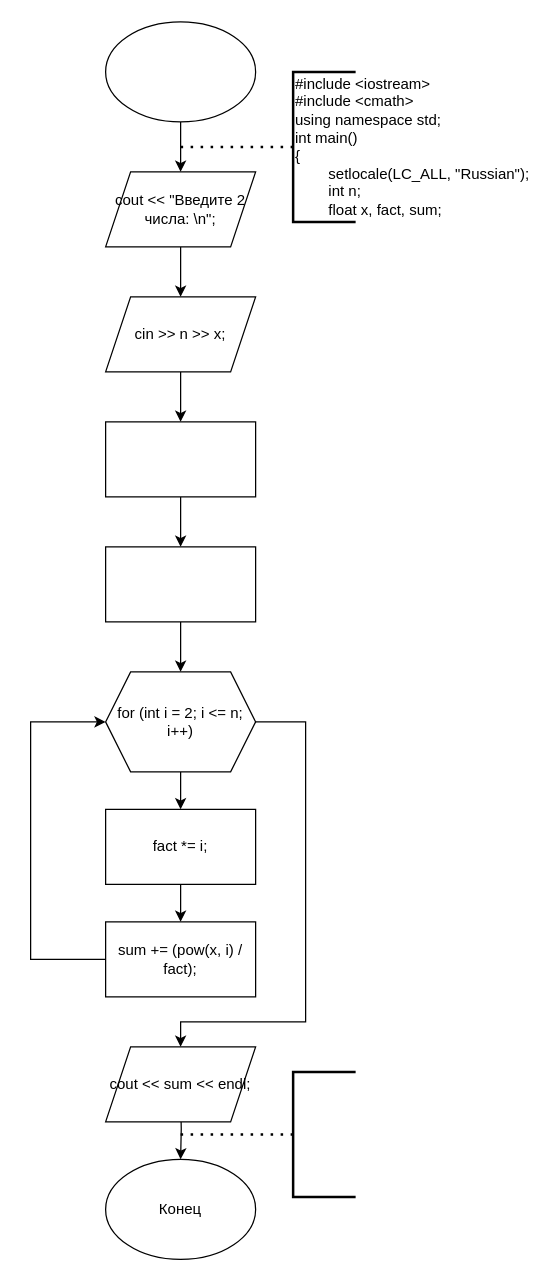
The diagram is 551 pixels wide and 1281 high, and some of its shapes have lost their labels. The shapes that lost their labels are listed below. From the top down, each one's box as (x1, y1, x2, y2) in pixels, then its label:
(104, 21, 256, 122): Начало
(104, 421, 256, 497): sum = 1 + x;
(104, 546, 256, 622): fact = 1;
(291, 1070, 356, 1198): return 0; }
